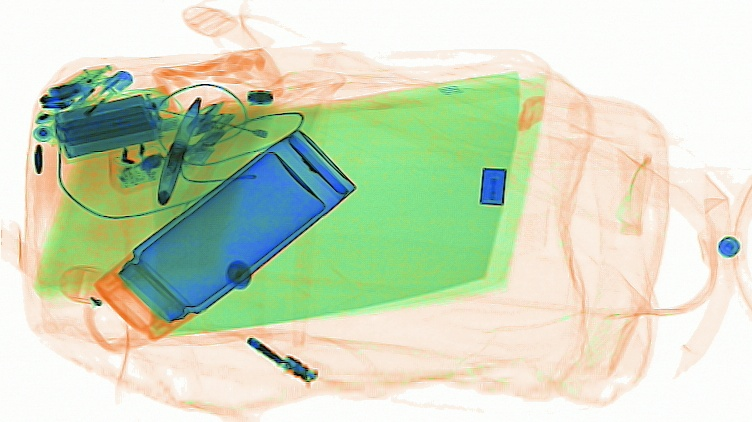lighter: (41, 67, 135, 151)
powerbank: (38, 84, 174, 159)
